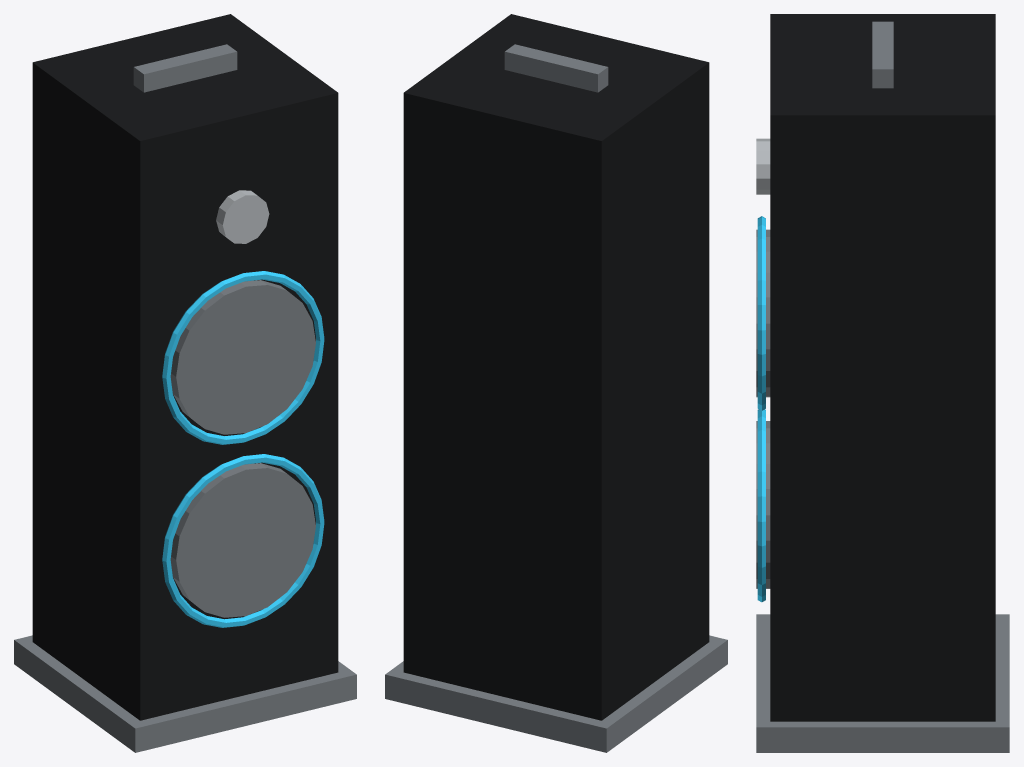
File: lome-enceinte.glb
The picture shows the model from 3 angles, left to right: view 1: azimuth 30°, elevation 25°; view 2: azimuth 150°, elevation 25°; view 3: azimuth 270°, elevation 25°; orthographic projection. The views are drawn at different scales.
Parts seen in each view (by area): view 1: caisson, membrane.001, membrane, socle.001, led, led.001, poignee.002, tweeter; view 2: caisson, socle.001, poignee.002; view 3: caisson, socle.001, led.001, led, poignee.002, membrane.001, membrane, tweeter.
Part boxes in pixels (x1=…): caisson: x1=32, y1=14, x2=338, y2=720; membrane.001: x1=170, y1=280, x2=315, y2=434; membrane: x1=170, y1=463, x2=315, y2=617; socle.001: x1=14, y1=635, x2=356, y2=752; led: x1=162, y1=454, x2=324, y2=627; led.001: x1=162, y1=271, x2=324, y2=444; poignee.002: x1=133, y1=44, x2=237, y2=92; tweeter: x1=216, y1=190, x2=269, y2=243; caisson: x1=403, y1=14, x2=709, y2=720; socle.001: x1=385, y1=635, x2=727, y2=752; poignee.002: x1=504, y1=44, x2=608, y2=92; caisson: x1=770, y1=14, x2=995, y2=721; socle.001: x1=756, y1=614, x2=1009, y2=752; led.001: x1=757, y1=216, x2=765, y2=410; led: x1=757, y1=409, x2=765, y2=602; poignee.002: x1=872, y1=21, x2=893, y2=88; membrane.001: x1=756, y1=229, x2=770, y2=397; membrane: x1=756, y1=421, x2=770, y2=588; tweeter: x1=756, y1=138, x2=770, y2=194.
Size of the model in its own units: 0.38 by 1.02 by 0.36.
